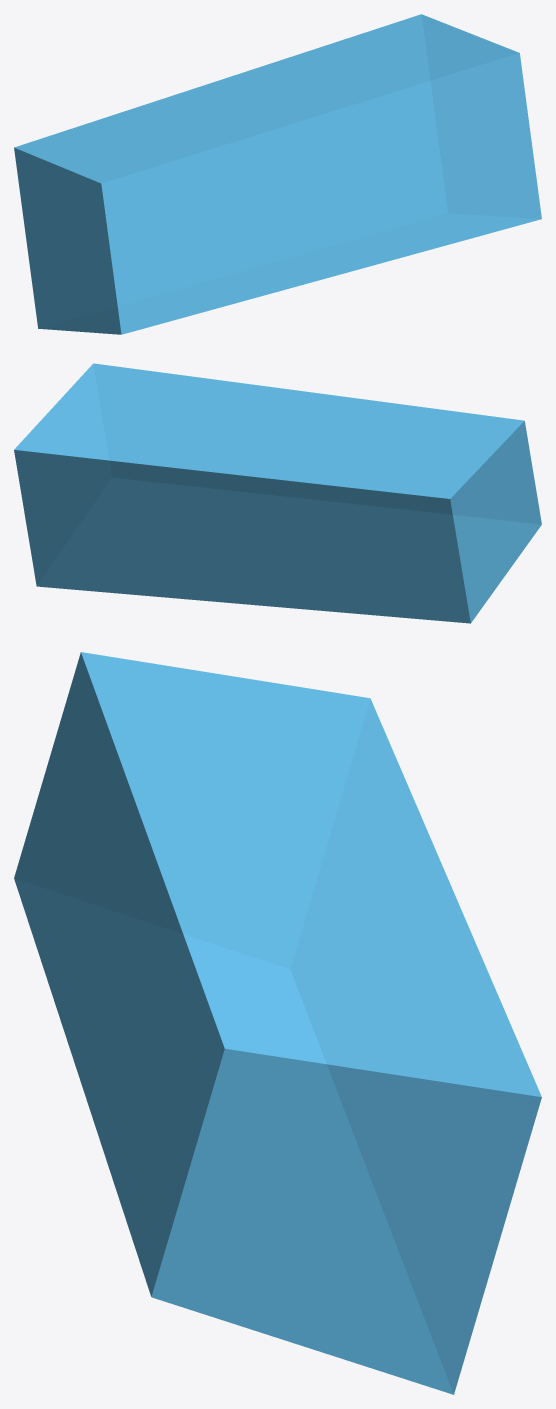
Rendered from Event_420107950_HErechit_22.fbx.
The picture shows the model from 3 angles, top to bottom: view 1: azimuth 30°, elevation 25°; view 2: azimuth 150°, elevation 25°; view 3: azimuth 270°, elevation 25°; orthographic projection. The views are drawn at different scales.
Visible parts, largest first — view 1: Model; view 2: Model; view 3: Model.
Part boxes in pixels (box(x1,y1,x2,y2)): Model: box(14, 14, 541, 334); Model: box(14, 363, 541, 623); Model: box(14, 652, 541, 1394).
Bounding box in the file's own units: 1 × 0.4646 × 0.5986.
